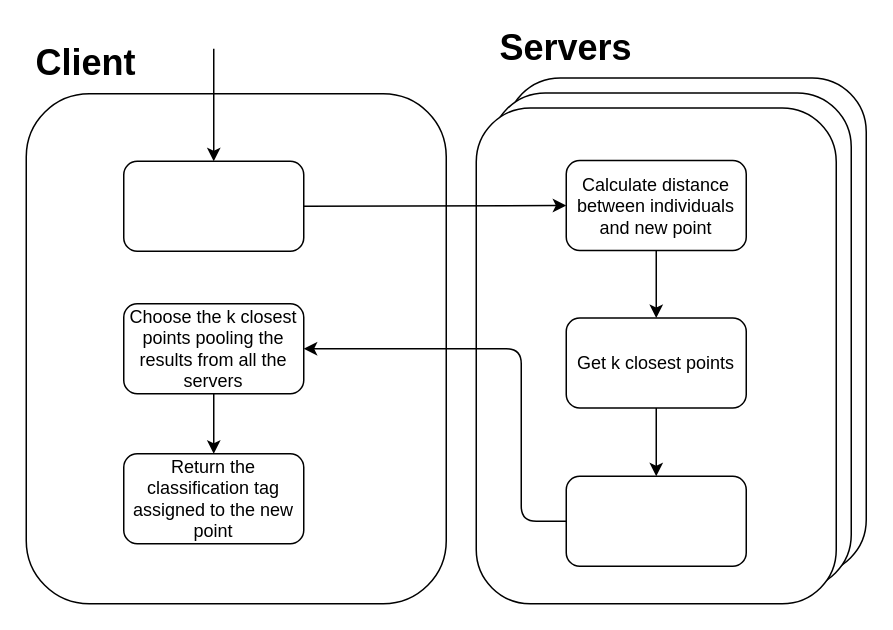
Some shapes in this 893 by 630 pixel diagram are drawn without their labels. Here are the shapes that lost their labels. From the top down, the centre of each, then its label:
pixel 213 205: Send new data point to servers
pixel 655 520: Send k closest points, distances and tags
